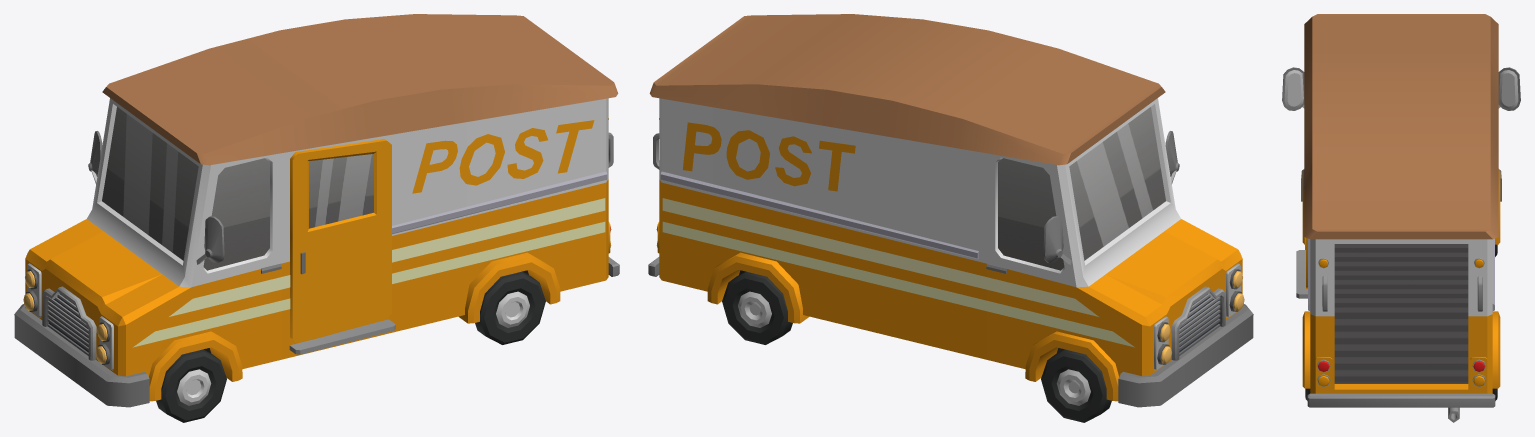
The model's file is PostCar_2_H.fbx.
3 renders of one model, left to right at view 1: azimuth 30°, elevation 25°; view 2: azimuth 150°, elevation 25°; view 3: azimuth 270°, elevation 25°, orthographic. The views are drawn at different scales.
Visible parts, largest first — view 1: PostCar_2_H, FL, RL; view 2: PostCar_2_H, FR, RR; view 3: PostCar_2_H.
Part boxes in pixels (box(x1,y1,x2,y2)): PostCar_2_H: box(14, 14, 619, 407); FL: box(156, 349, 226, 422); RL: box(475, 271, 545, 344); PostCar_2_H: box(648, 14, 1253, 407); FR: box(1041, 349, 1111, 422); RR: box(722, 271, 792, 344); PostCar_2_H: box(1282, 14, 1520, 422).
Size of the model in its own units: 414 by 211 by 180.
